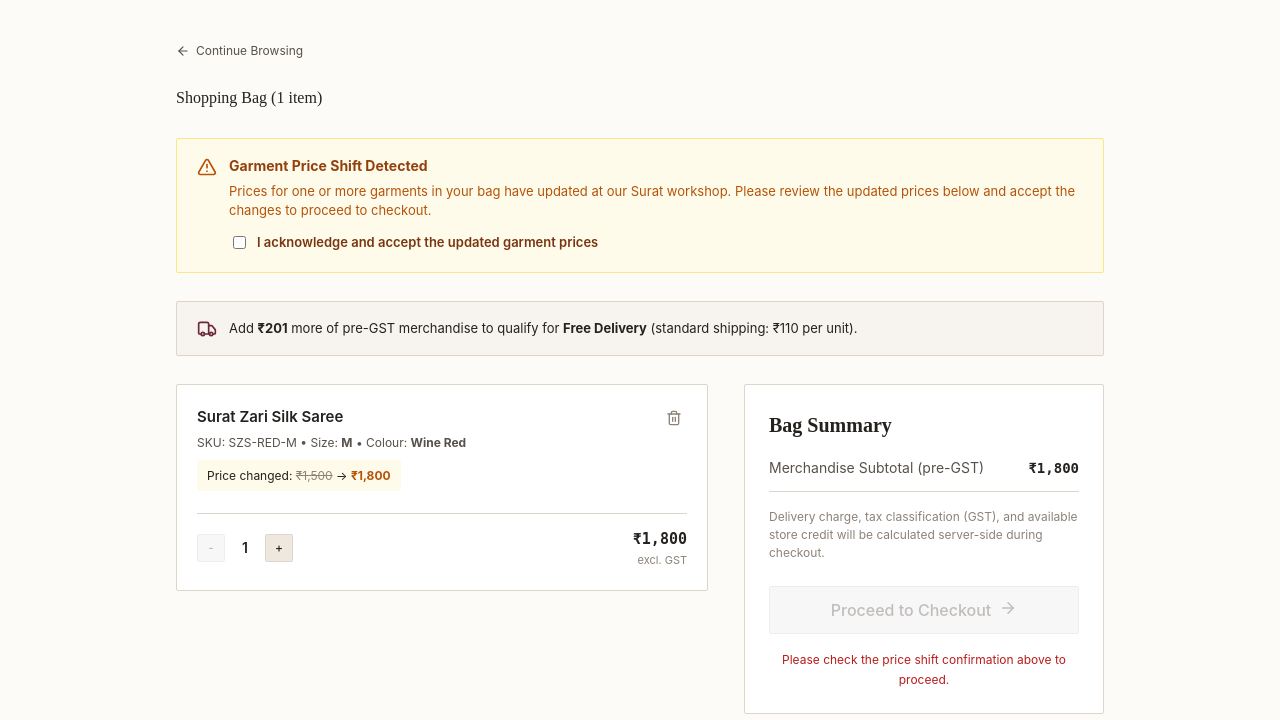
Test case: Component 13: Customer Flows › Shopping Bag (Cart) › blocks checkout when price shift requires confirmation
Expected: the text "Garment Price Shift Detected" is shown, left=229, top=157, right=428, bottom=174
Expected: the button "Proceed to Checkout" is disabled, left=769, top=586, right=1079, bottom=634
// Tick the confirmation checkbox
Click the checkbox labelled "I acknowledge and accept the updated garment prices". click: (240, 242)
box: left=233, top=236, right=246, bottom=249
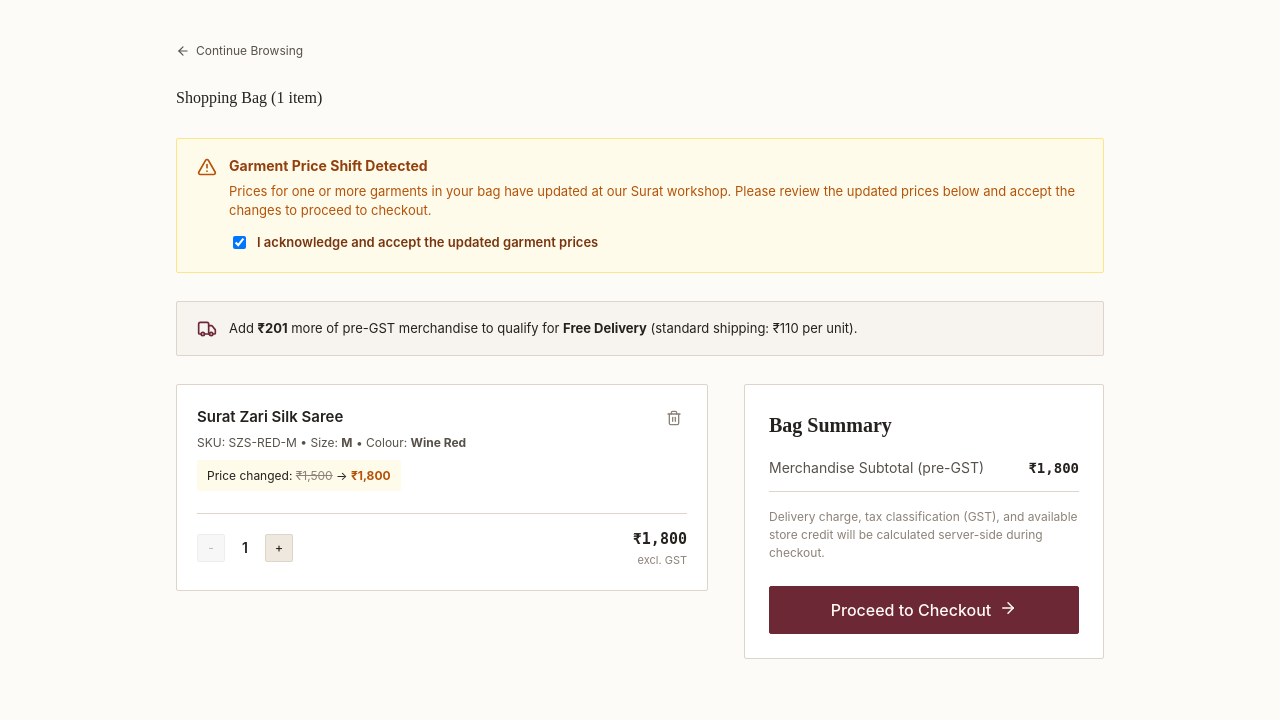
Expected: the button "Proceed to Checkout" is enabled, left=769, top=586, right=1079, bottom=634
